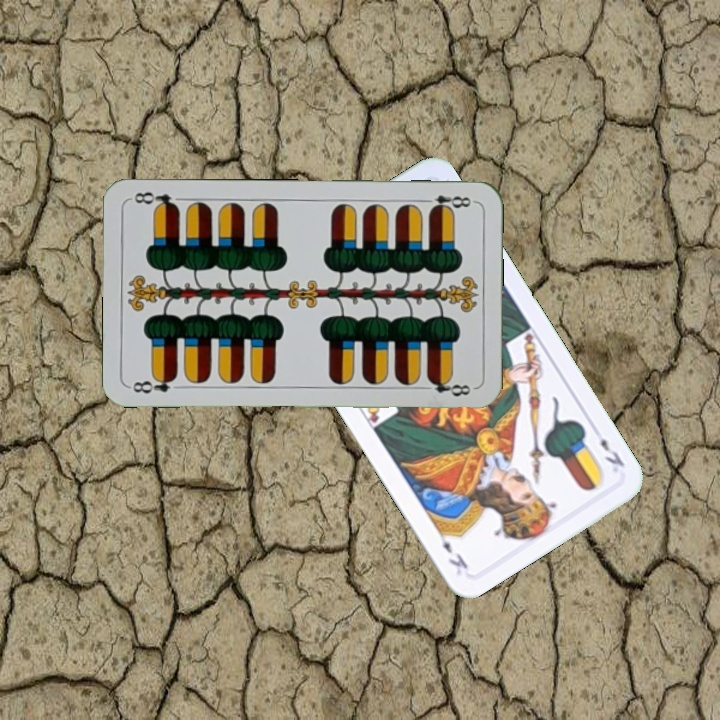E8: (418, 191, 477, 214), (128, 372, 179, 396)
EK: (596, 434, 627, 470)
